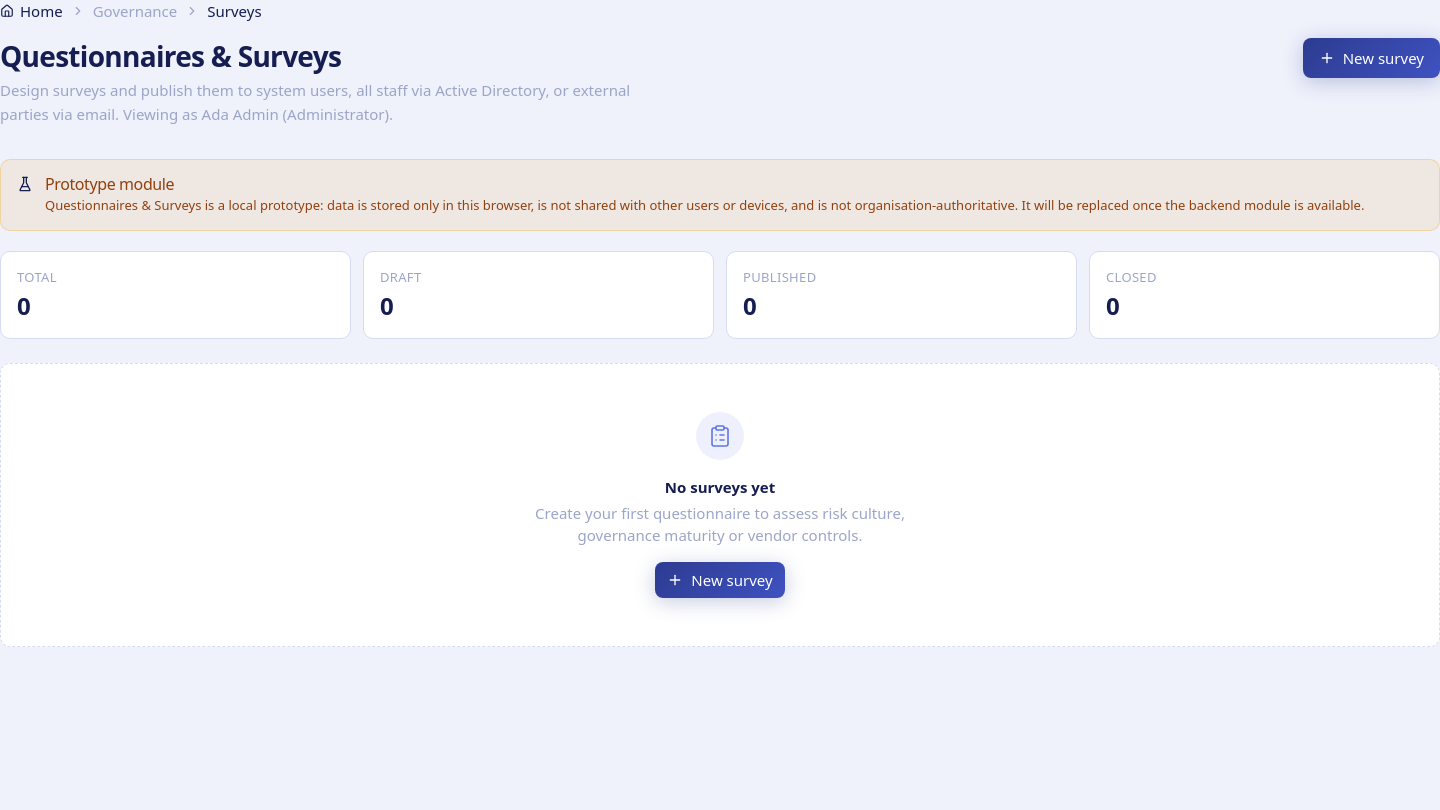
Scenario: SurveyManagement › designs a survey with a question and lists it after saving
The width and height of the screenshot is (1440, 810).
Click the 1st button "New survey" at x=1371, y=58, box [1303,38,1439,78]
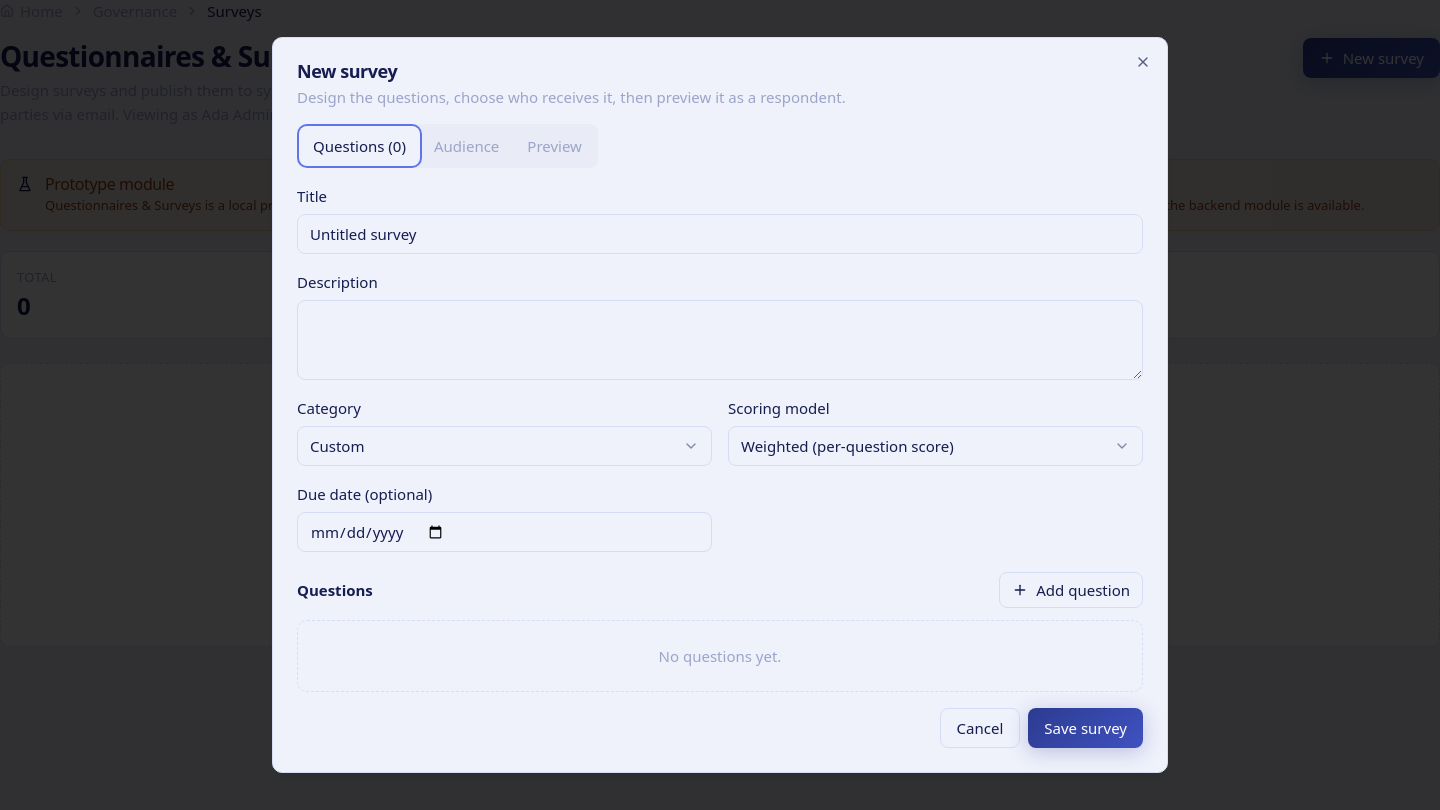
Result: the text "Design the questions, choose who receives it, then preview it as a respondent." is shown at [297,87,846,107]
Replace the text in the field labelled "Title" with "Vendor controls" at x=720, y=234, box [297,214,1143,254]
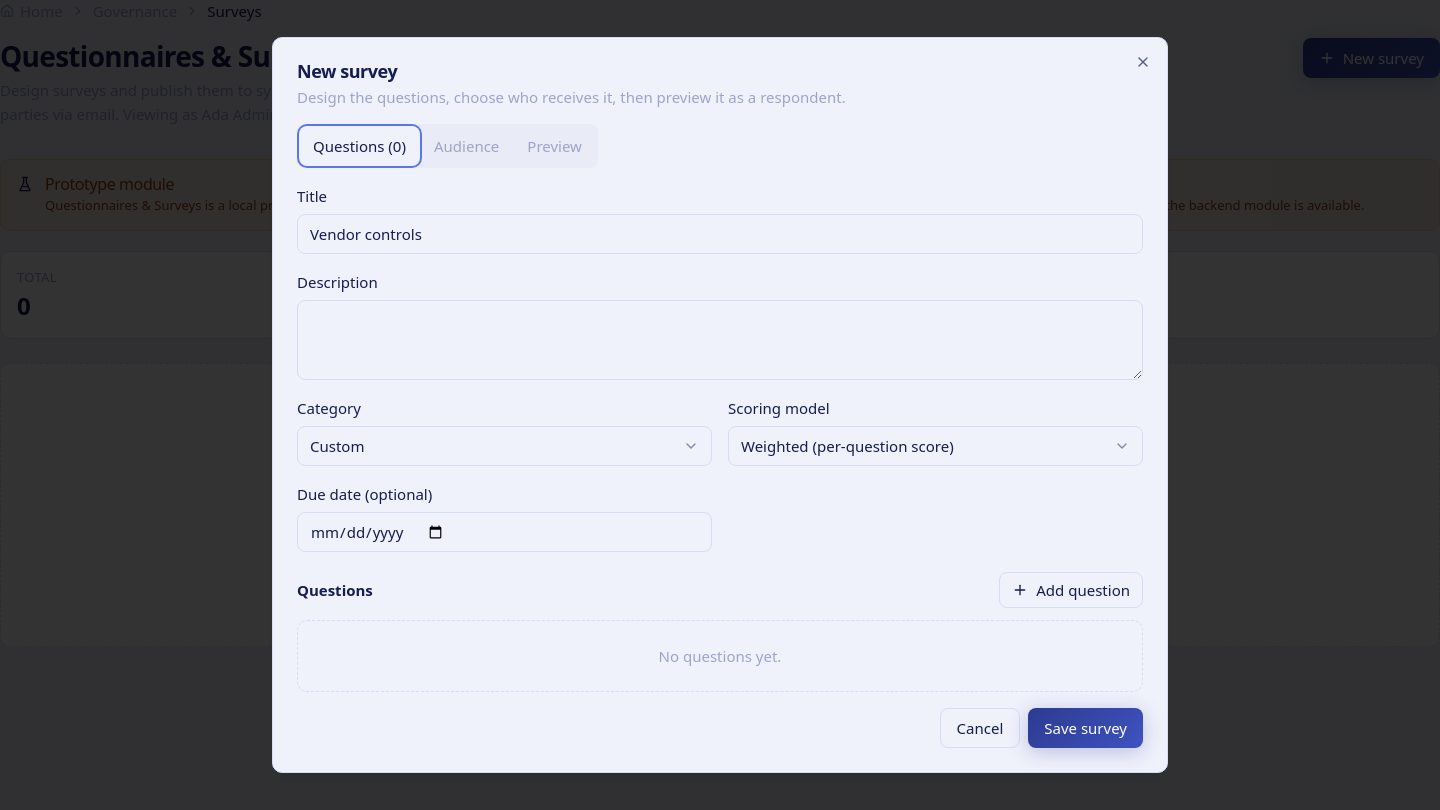
Click the button "Add question" at x=1071, y=590, box [999,572,1143,608]
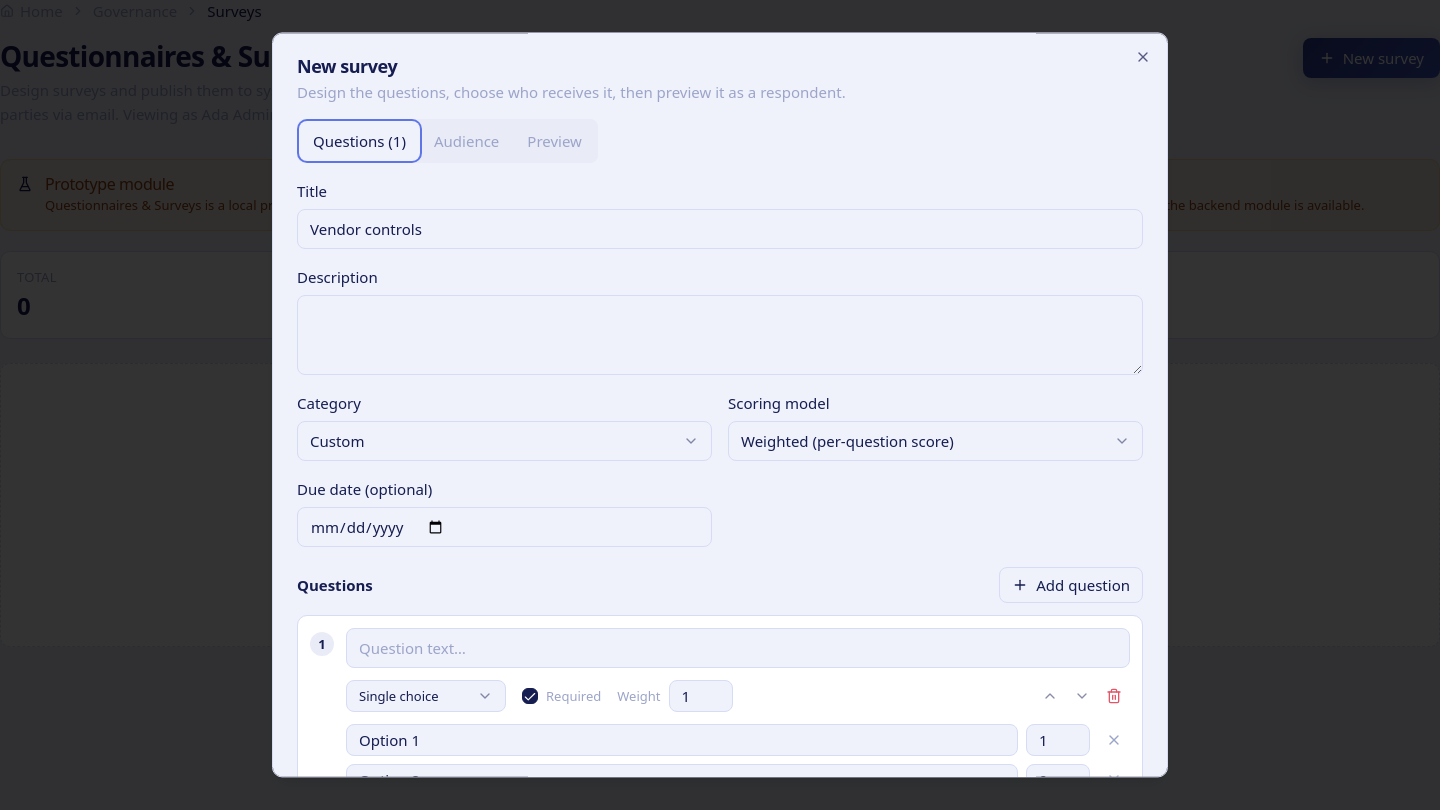
Type "Is MFA enforced?" into the field named "Question 1 text" at x=738, y=648, box [346,628,1130,668]
(page scrolled)
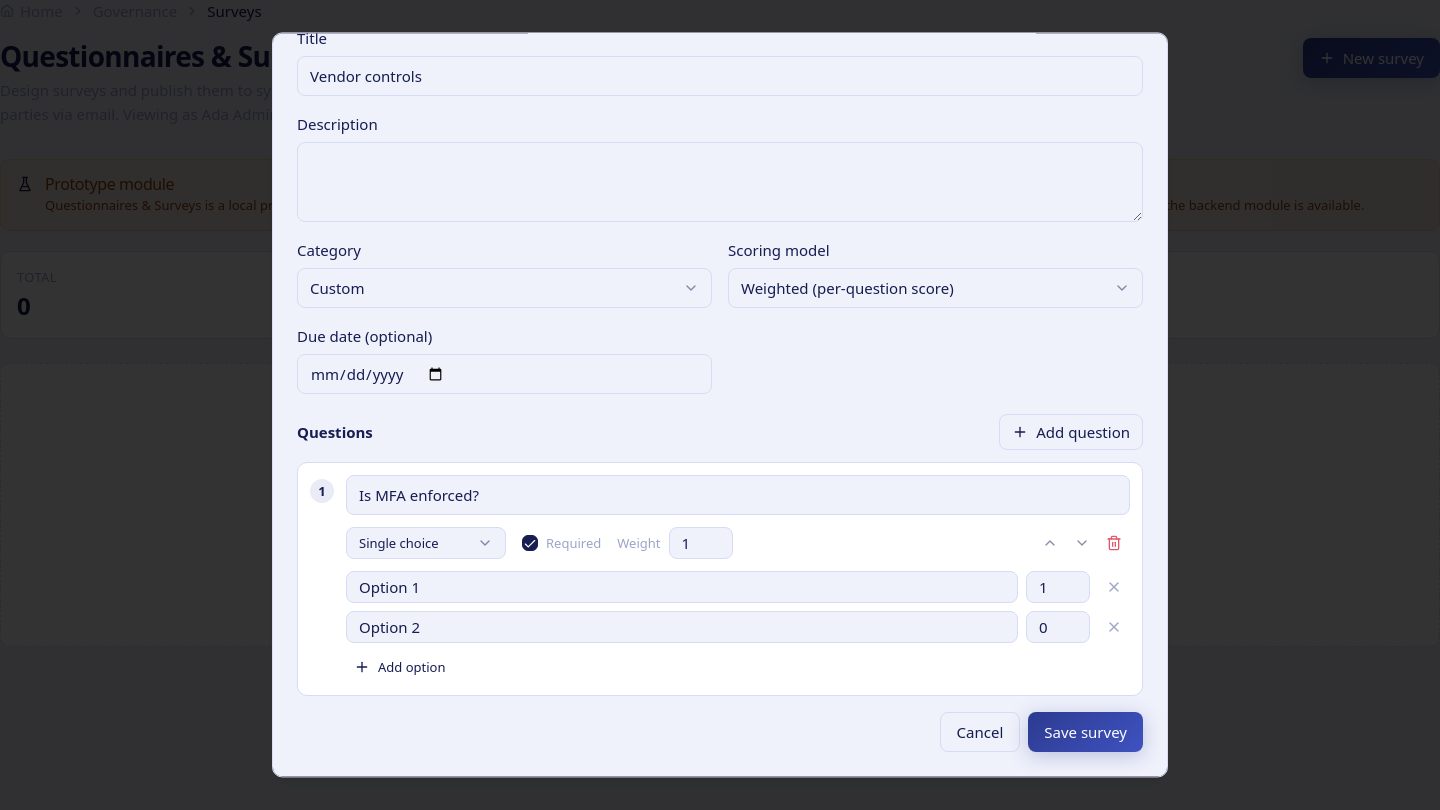
Click the button "Save survey" at x=1086, y=732, box [1028,712,1143,752]
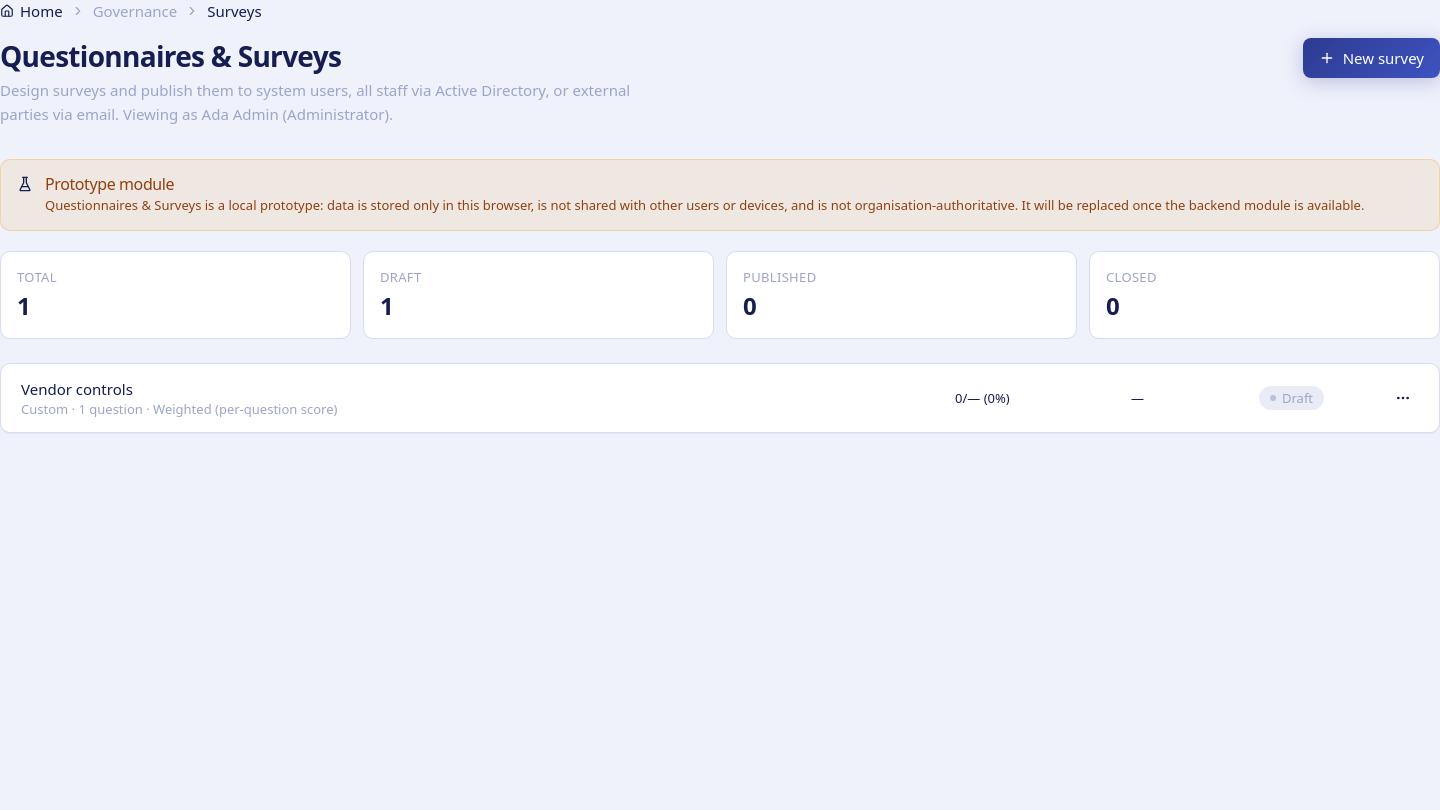
Expected: the text "Vendor controls" is shown, [21,379,133,399]
Result: the dialog is gone
